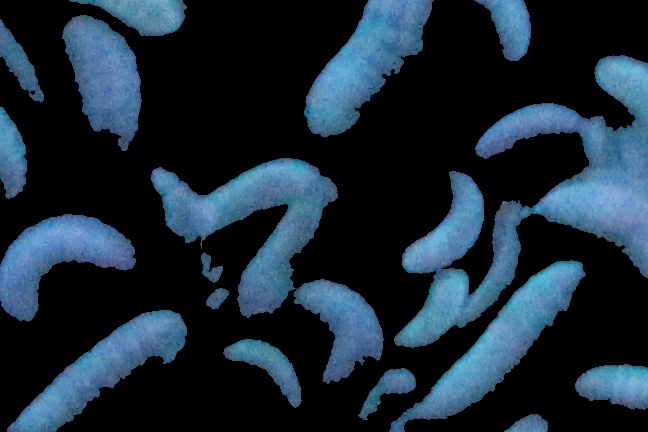larvae: (421, 263, 596, 411), (1, 311, 185, 432), (301, 1, 436, 140), (1, 216, 140, 323), (59, 15, 146, 158), (299, 279, 390, 411), (186, 156, 332, 236), (239, 196, 324, 324), (538, 175, 648, 267), (403, 171, 483, 271), (460, 195, 526, 309), (473, 92, 577, 161), (436, 1, 535, 66), (223, 338, 315, 407), (30, 1, 194, 39), (398, 269, 461, 352), (572, 358, 648, 415), (1, 98, 28, 207)
